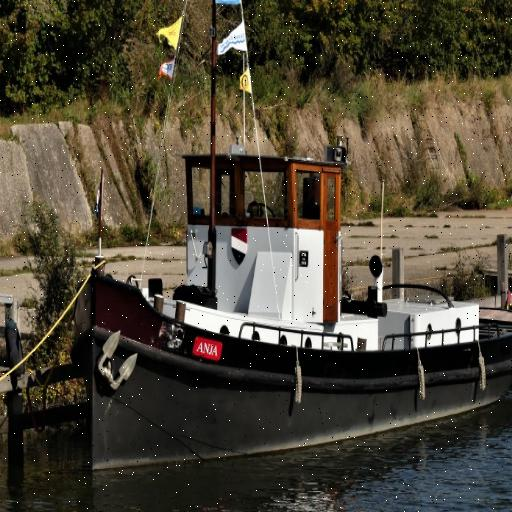tugboat: (69, 132, 512, 486)
